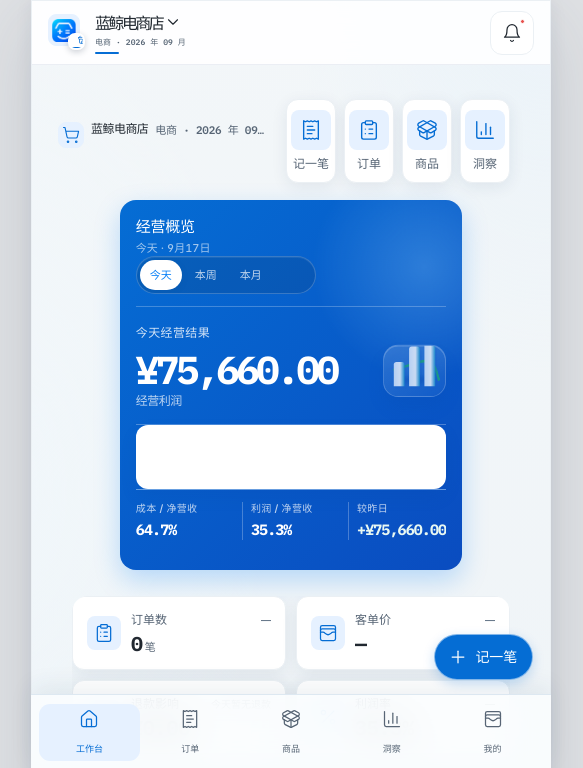
Scenario: batch-02 标题重复：商品详情「商品商品成本详情」→「商品成本详情」 › 商品详情页头部标题为「商品成本详情」，页面任意位置不出现「商品商品」
Step 1. Click the 2nd button "商品" → (291, 732), box [241, 704, 341, 761]
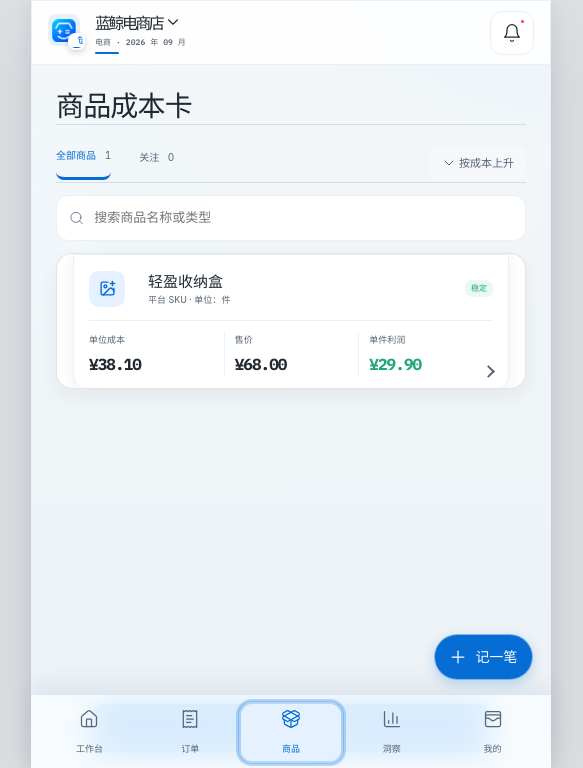
Step 2. Click the button "轻盈收纳盒 平台 SKU · 单位：件 稳定 单位成本 ¥38.10 售价 ¥68.00 单件利润 ¥29.90" → (291, 321), box [73, 254, 509, 388]
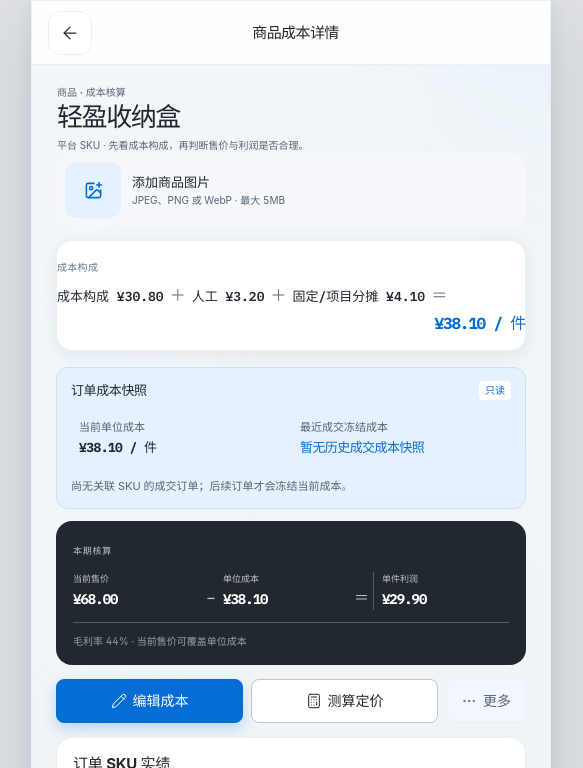
Now the button "编辑成本" is shown, box [56, 679, 243, 723]
Now the text "商品成本详情" is shown, box [252, 22, 339, 43]
